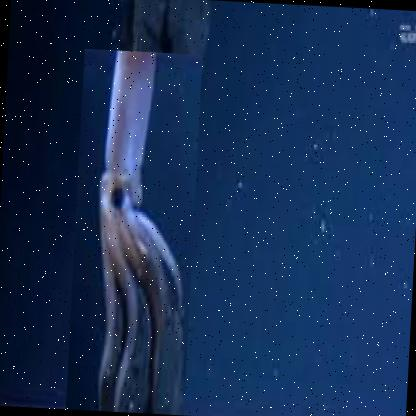colossal_squid: (65, 47, 204, 414)
